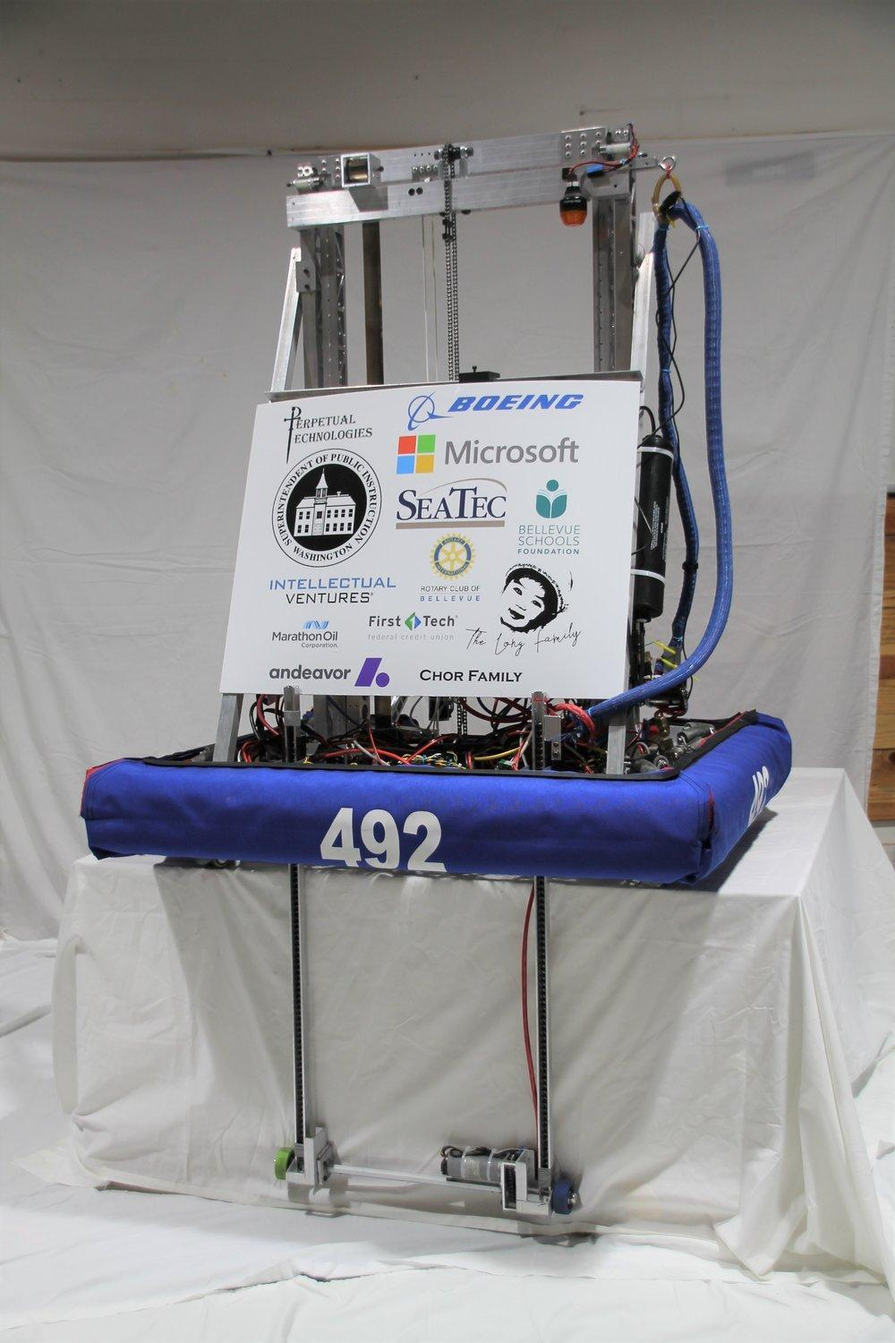robot: (68, 90, 820, 1234)
